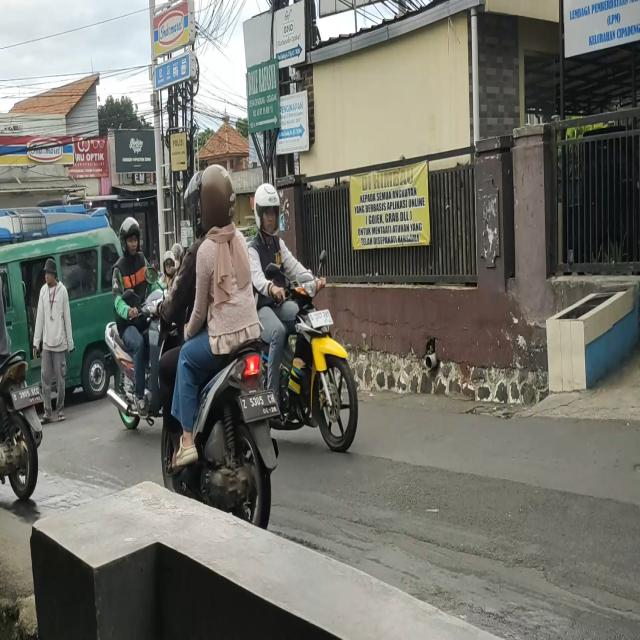helmet: (201, 163, 235, 227), (254, 185, 282, 238), (183, 173, 207, 228), (120, 213, 140, 261), (164, 250, 176, 279)
